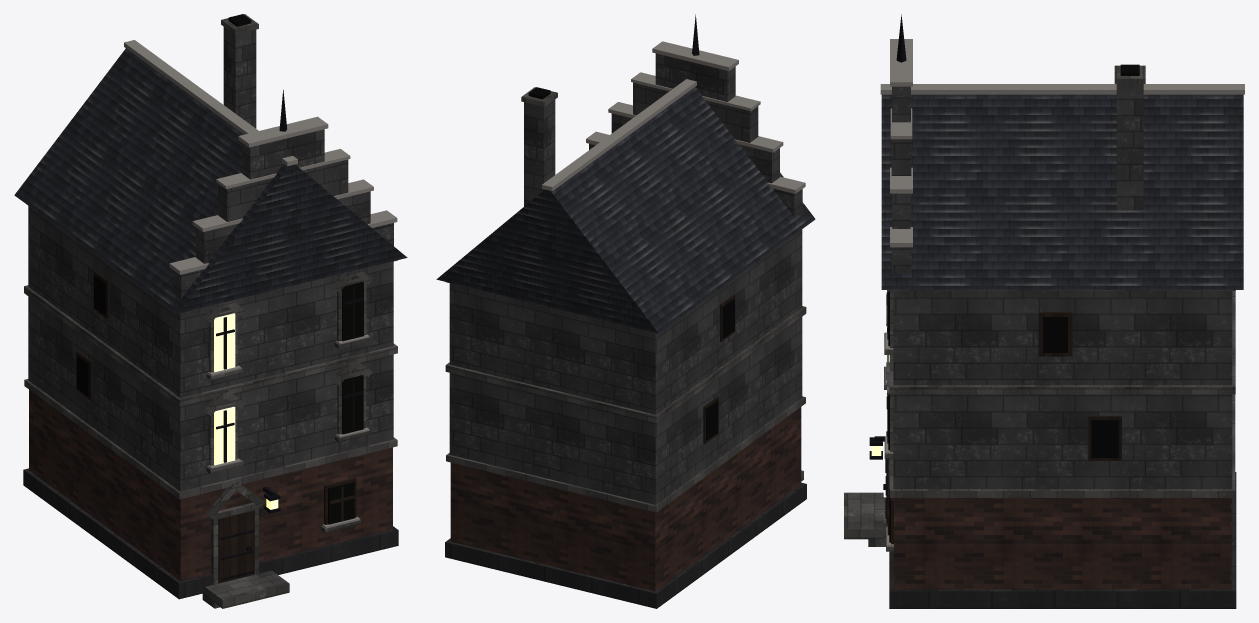
Rendered from CasaB17.gltf.
3 views of the same model, side by side, from view 1: azimuth 30°, elevation 25°; view 2: azimuth 150°, elevation 25°; view 3: azimuth 270°, elevation 25° (orthographic). The views are drawn at different scales.
Parts seen in each view (by area): view 1: CasaB17; view 2: CasaB17; view 3: CasaB17.
Boxes of the visible parts, bbox=[...] form: CasaB17: bbox=[14, 14, 407, 608]; CasaB17: bbox=[436, 14, 815, 608]; CasaB17: bbox=[844, 14, 1244, 608].
Bounding box in the file's own units: 8.3 × 16.78 × 11.19.
10 materials, 6 textured.
